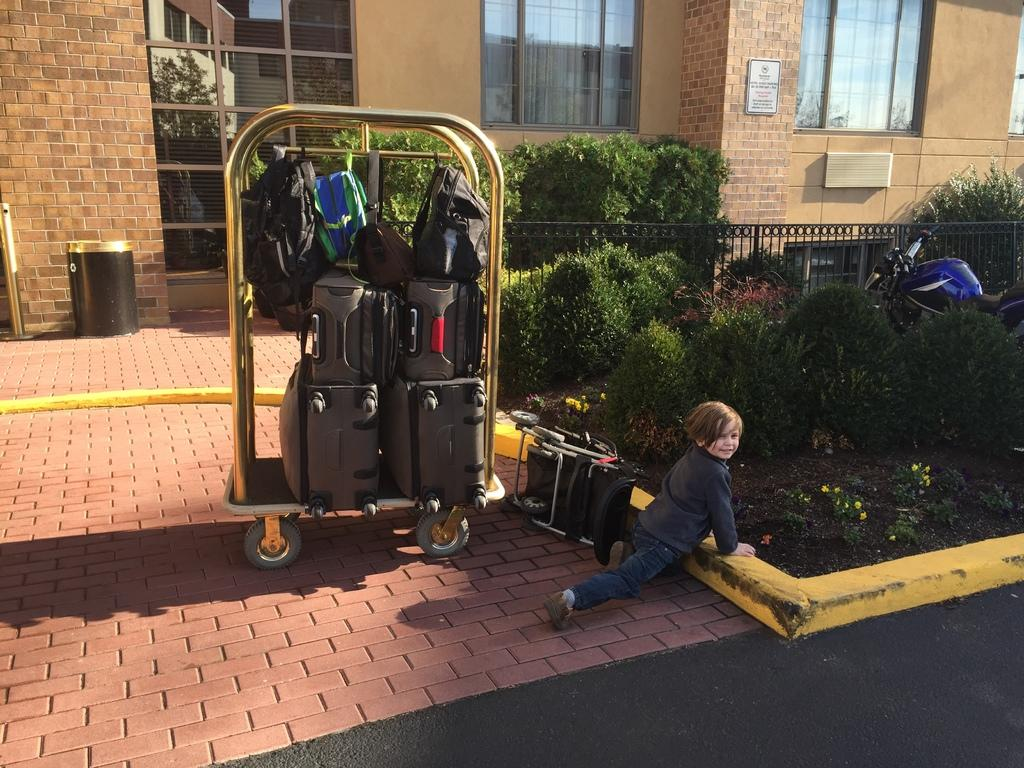Luggage-and-bags: (229, 124, 492, 540)
